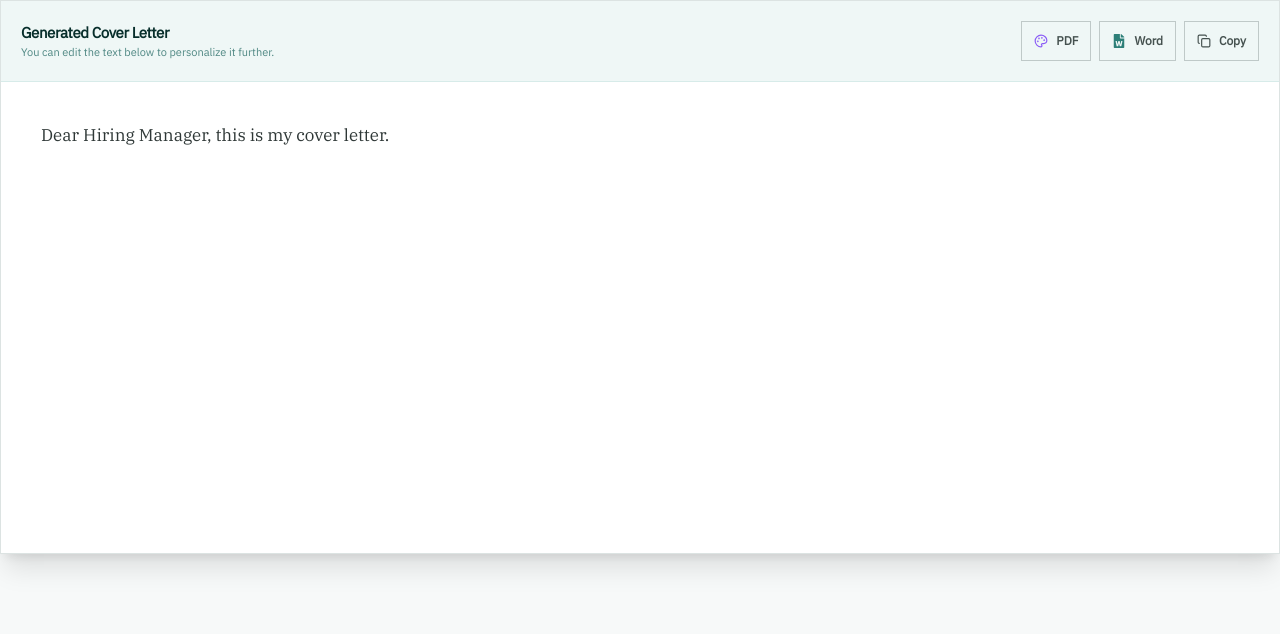
ResultDisplay › PDF button › generates the PDF with the chosen design id, shows a success toast, and closes the modal
The width and height of the screenshot is (1280, 634).
Click the button "PDF". click: (1056, 41)
box: [1021,21,1091,61]
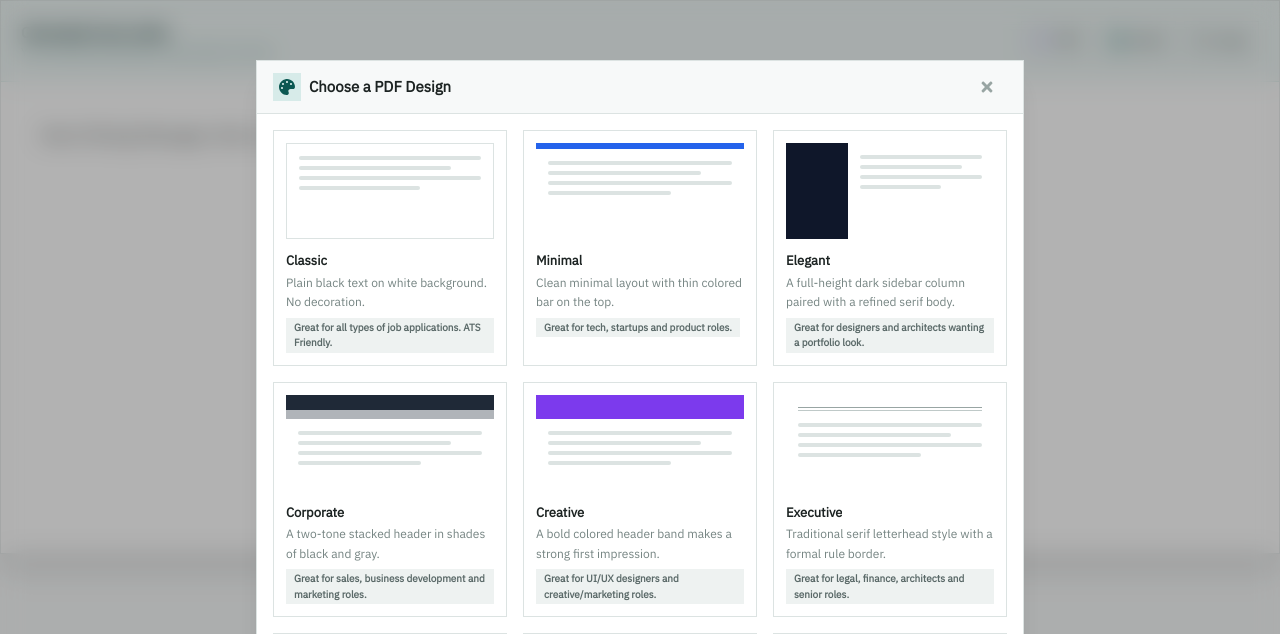
Click the heading "Minimal". click: (559, 261)
box: [536,251,582,270]
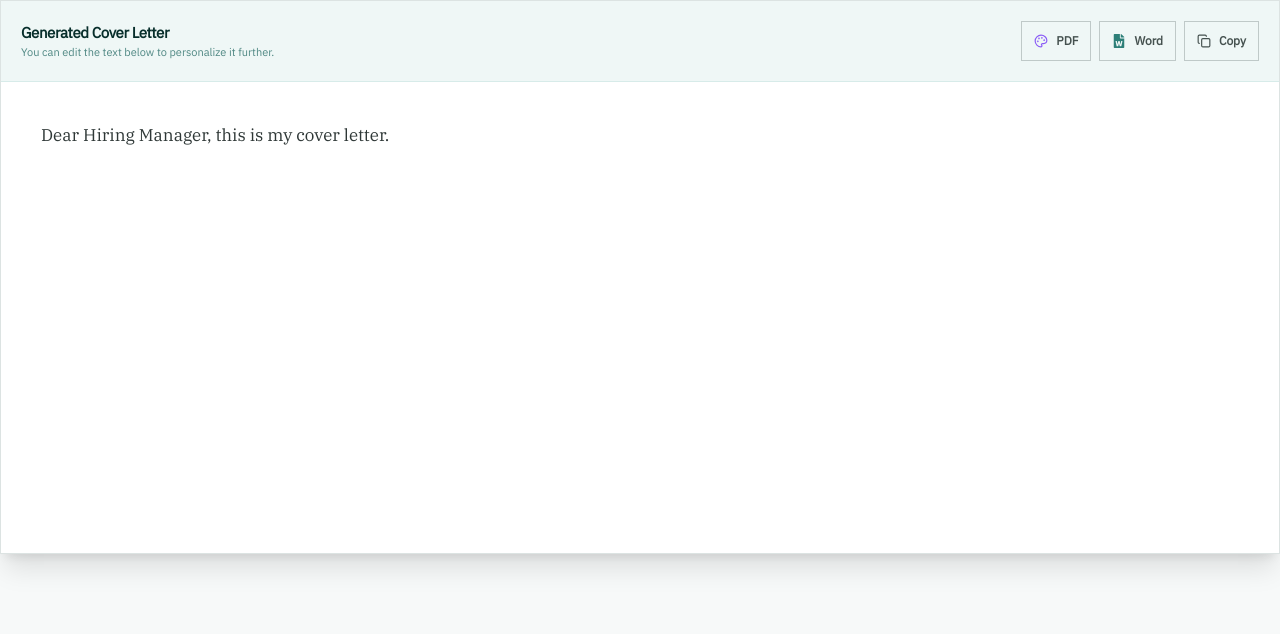
Result: the heading "Choose a PDF Design" is gone
